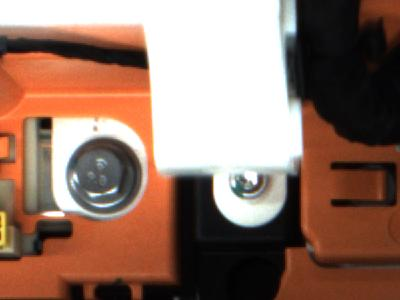nut_b: (61, 136, 147, 219)
